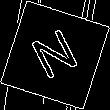N_SE: (26, 23, 84, 87)
